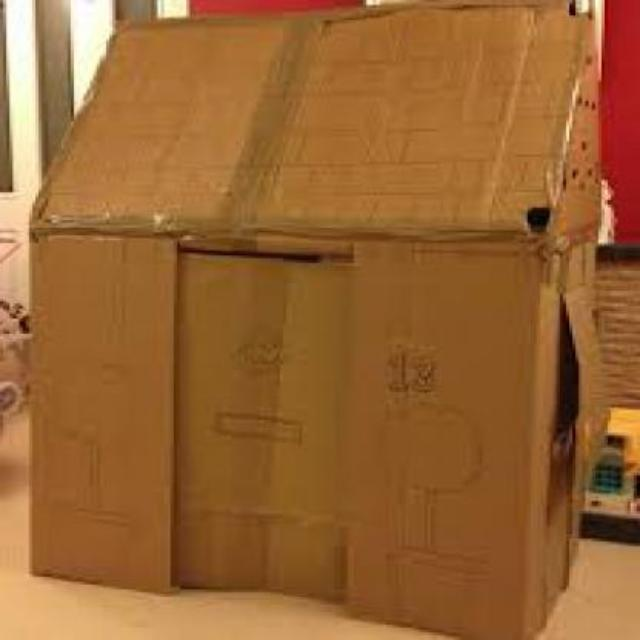cardboard_box: (42, 12, 622, 636)
